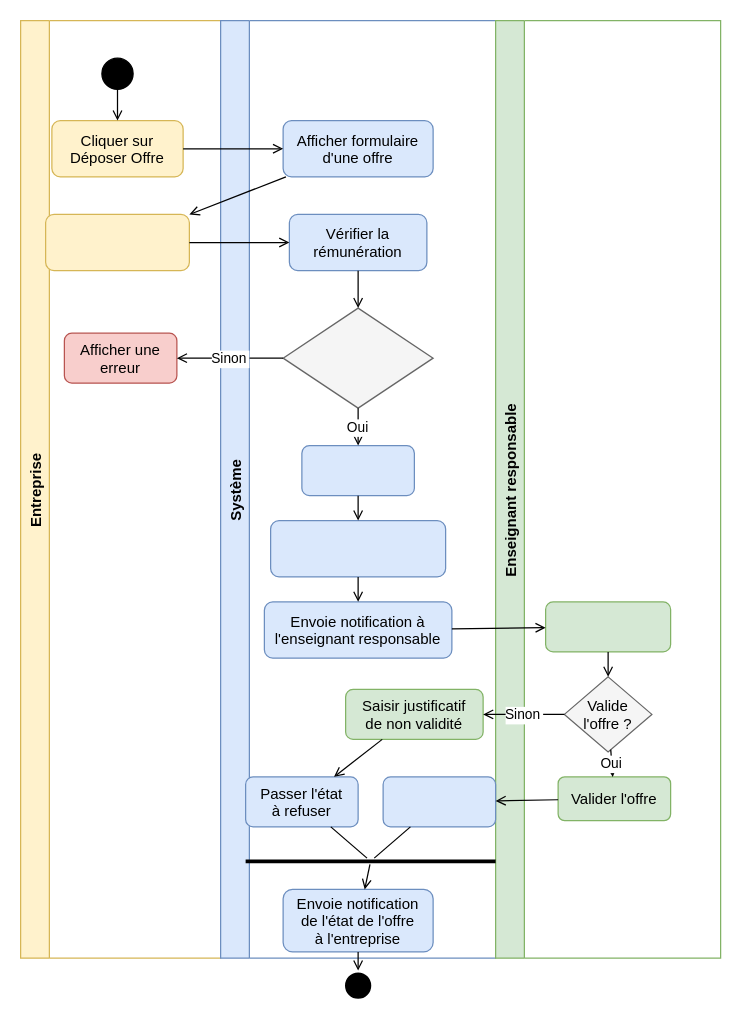
The diagram is 741 pixels wide and 1021 high, and some of its shapes have lost their labels. The shapes that lost their labels are listed below. From the top down, each one's centre as x and y in pixels, then its label:
the point at 116,242: Remplir le formulaire d'une offre
the point at 357,357: Rémunération >= montantMinimal
the point at 357,470: Enregistrer l'offre
the point at 357,548: Passer EtatOffre à En attente de validation
the point at 607,626: Consulter l'offre
the point at 439,801: Passer l'état à visible
